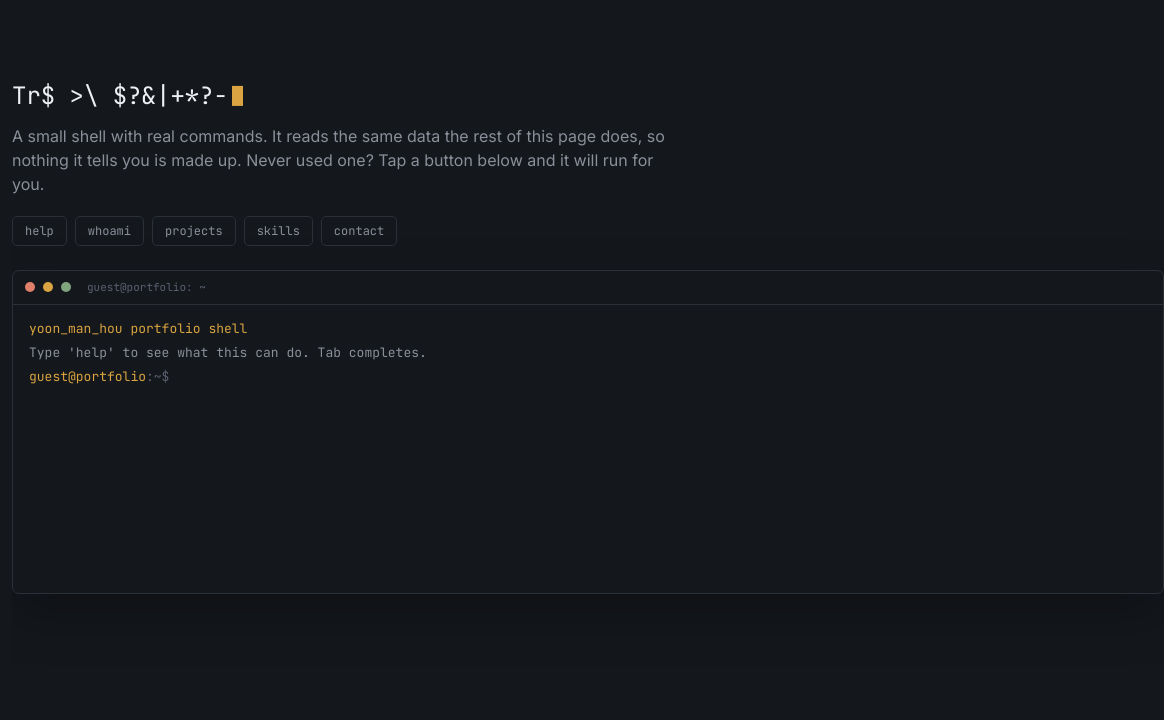
TerminalDemo › completes a unique prefix on Tab and leaves a trailing space to type into
Click the field named "terminal input" at (658, 376), box left=169, top=364, right=1147, bottom=388
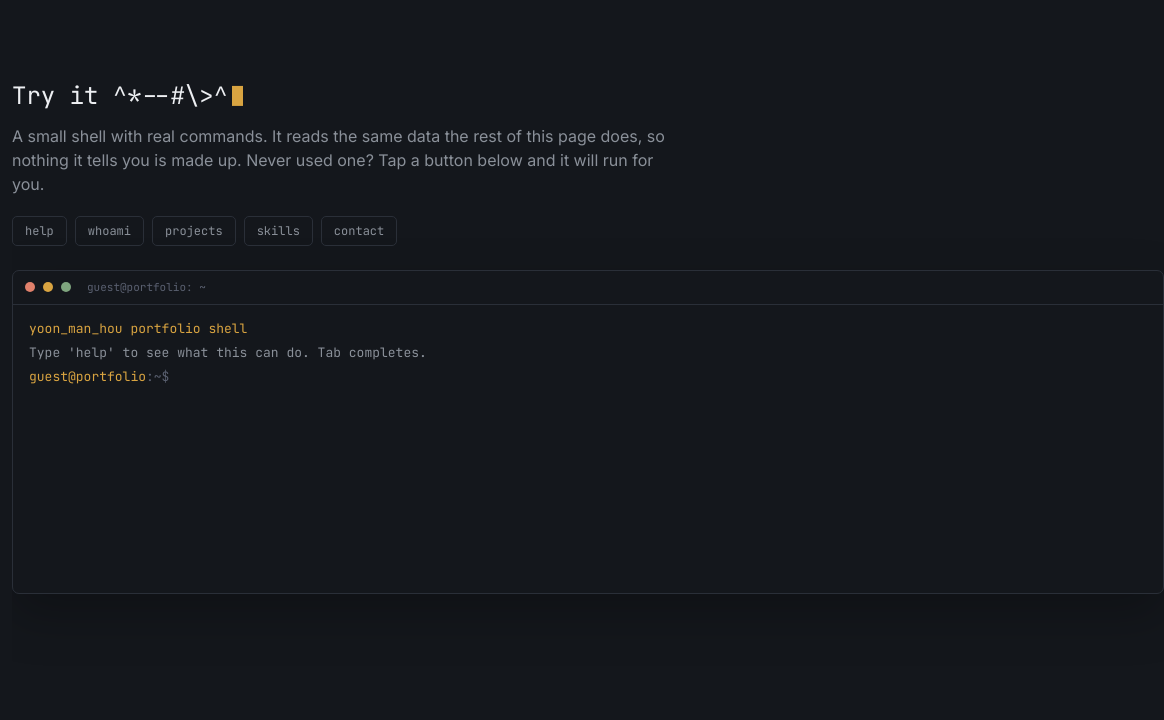
Type keys "wh{Tab}"
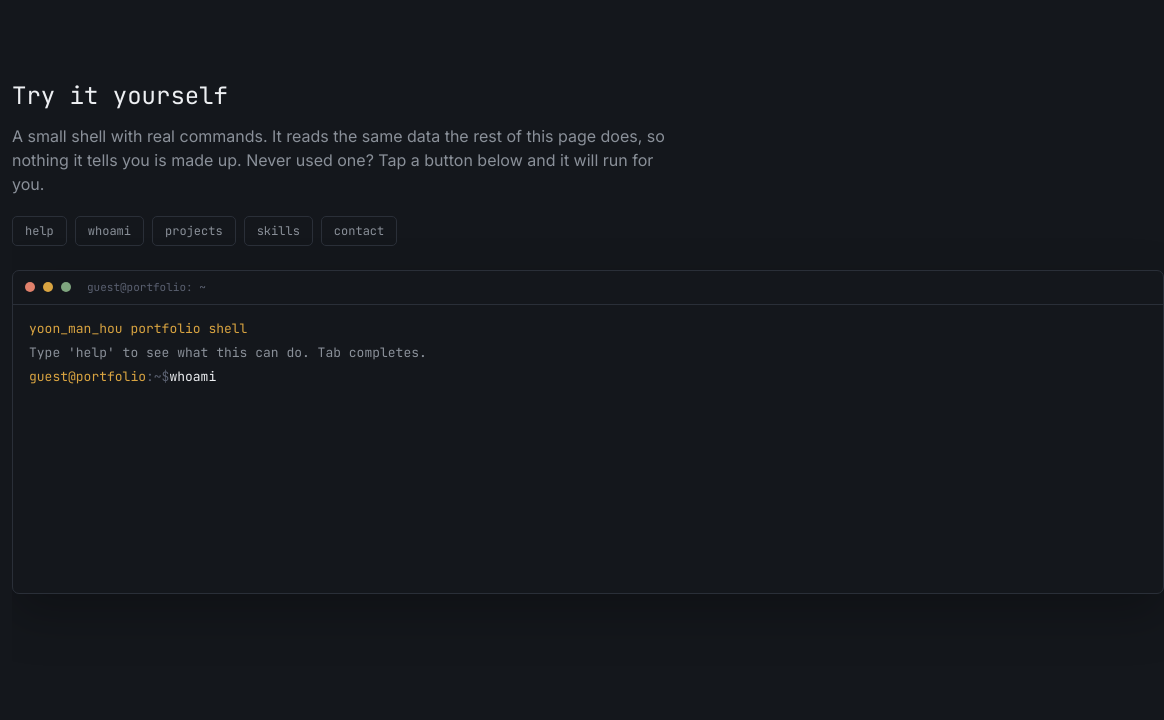
expect the field named "terminal input" holds "whoami ": met, box left=169, top=364, right=1147, bottom=388
